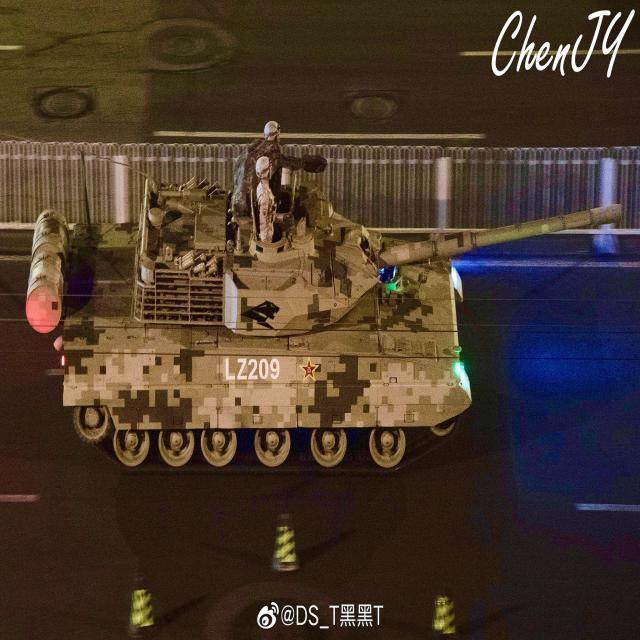MIL_MBT: (24, 140, 623, 476)
